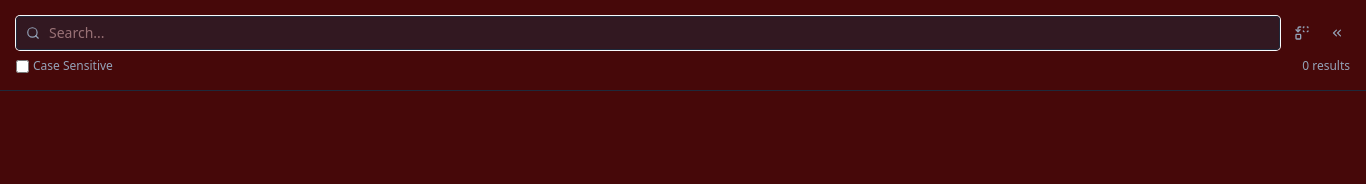
Test: SearchPanel › should display search results
Type "test" into the field with placeholder "Search..." at (648, 33), box [16,16,1280,50]
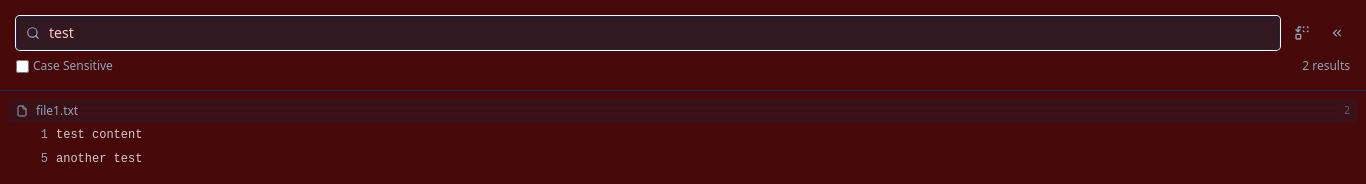
Now the text "2 results" is shown, box [1302,58,1350,74]
Now the text "test content" is shown, box [56,127,142,143]
Now the text "another test" is shown, box [56,151,142,167]
